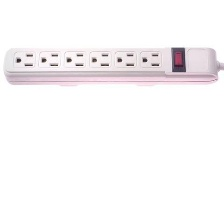three_eye_plug: (0, 44, 220, 87)
